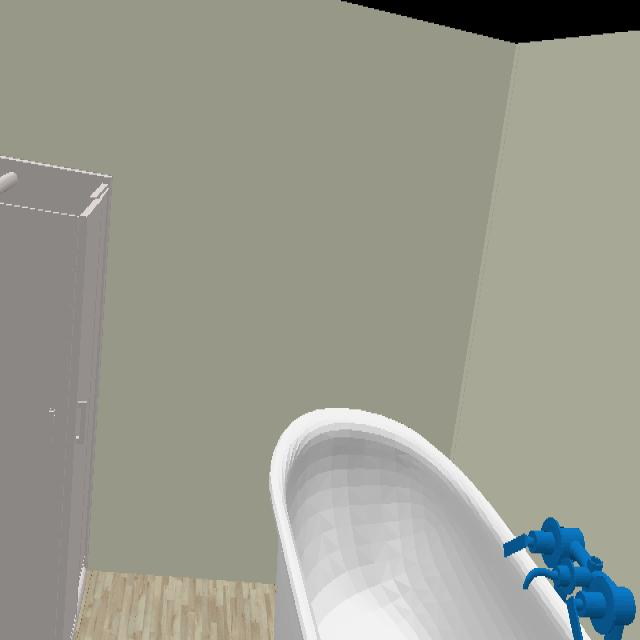bathtube: (267, 408, 580, 640)
shower: (0, 156, 112, 640)
